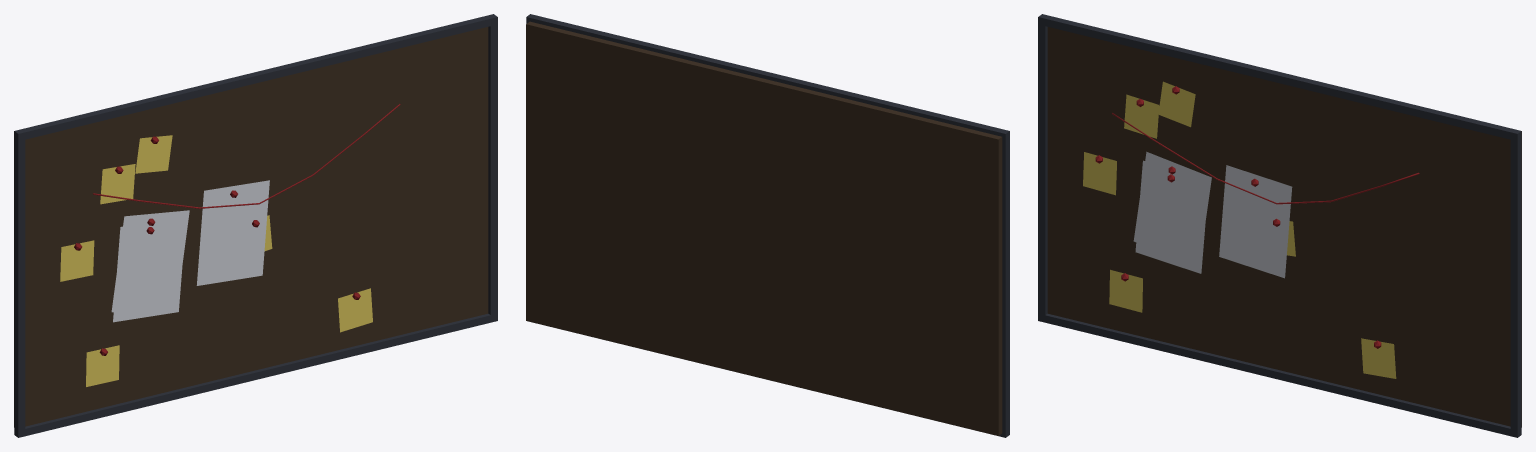
The model's file is Deco_CorkBoard.gltf.
3 views of the same model, side by side, from view 1: azimuth 30°, elevation 25°; view 2: azimuth 150°, elevation 25°; view 3: azimuth 330°, elevation 25° (orthographic).
Parts seen in each view (by area): view 1: Deco_CorkBoard; view 2: Deco_CorkBoard; view 3: Deco_CorkBoard.
Part boxes in pixels (bbox=[...]): Deco_CorkBoard: bbox=[14, 14, 497, 437]; Deco_CorkBoard: bbox=[526, 14, 1009, 437]; Deco_CorkBoard: bbox=[1038, 14, 1521, 437].
Size of the model in its own units: 1.01 by 0.615 by 0.0345.
